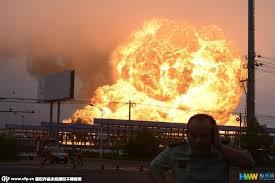fire: (69, 14, 253, 119)
